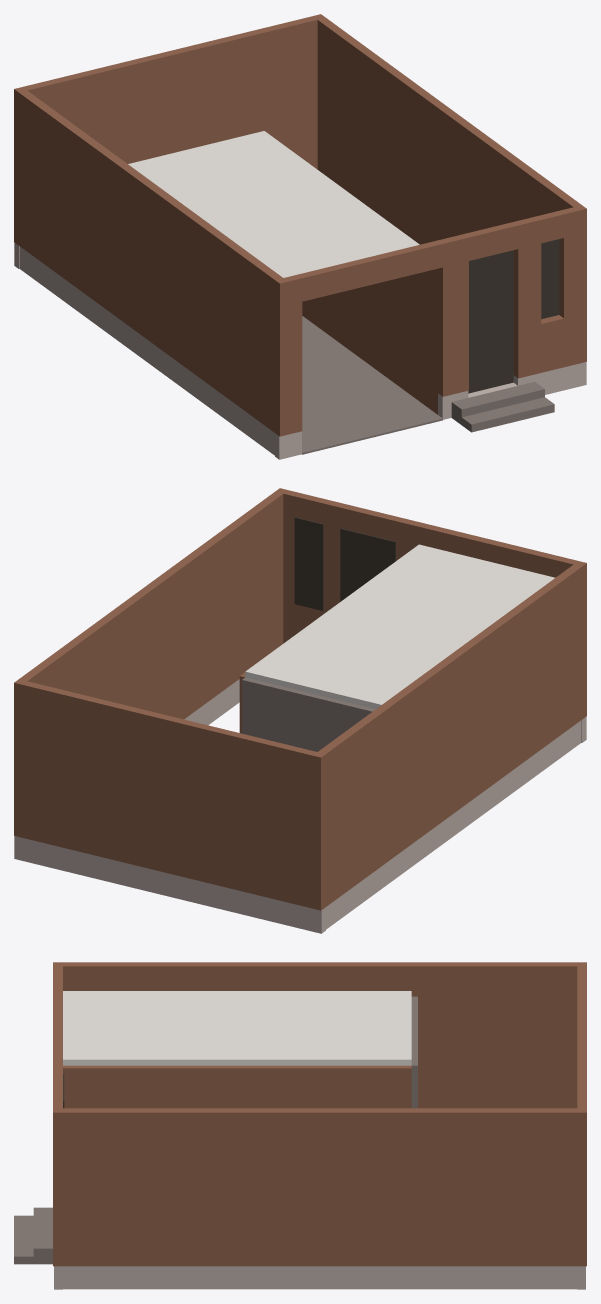
Rendered from SM_Floor_NarrowGarage_546_01.gltf.
3 views of the same model, one above another, from view 1: azimuth 30°, elevation 25°; view 2: azimuth 150°, elevation 25°; view 3: azimuth 270°, elevation 25° (orthographic).
Visible parts, largest first — view 1: SM_Floor_NarrowGarage_546_01; view 2: SM_Floor_NarrowGarage_546_01; view 3: SM_Floor_NarrowGarage_546_01.
Boxes of the visible parts, x1,y1,x2,y2 form: SM_Floor_NarrowGarage_546_01: [14, 14, 586, 459]; SM_Floor_NarrowGarage_546_01: [14, 488, 586, 933]; SM_Floor_NarrowGarage_546_01: [14, 962, 586, 1289].
Bounding box in the file's own units: 5.46 × 3 × 8.79.
Materials: 1 (1 with a texture image).
